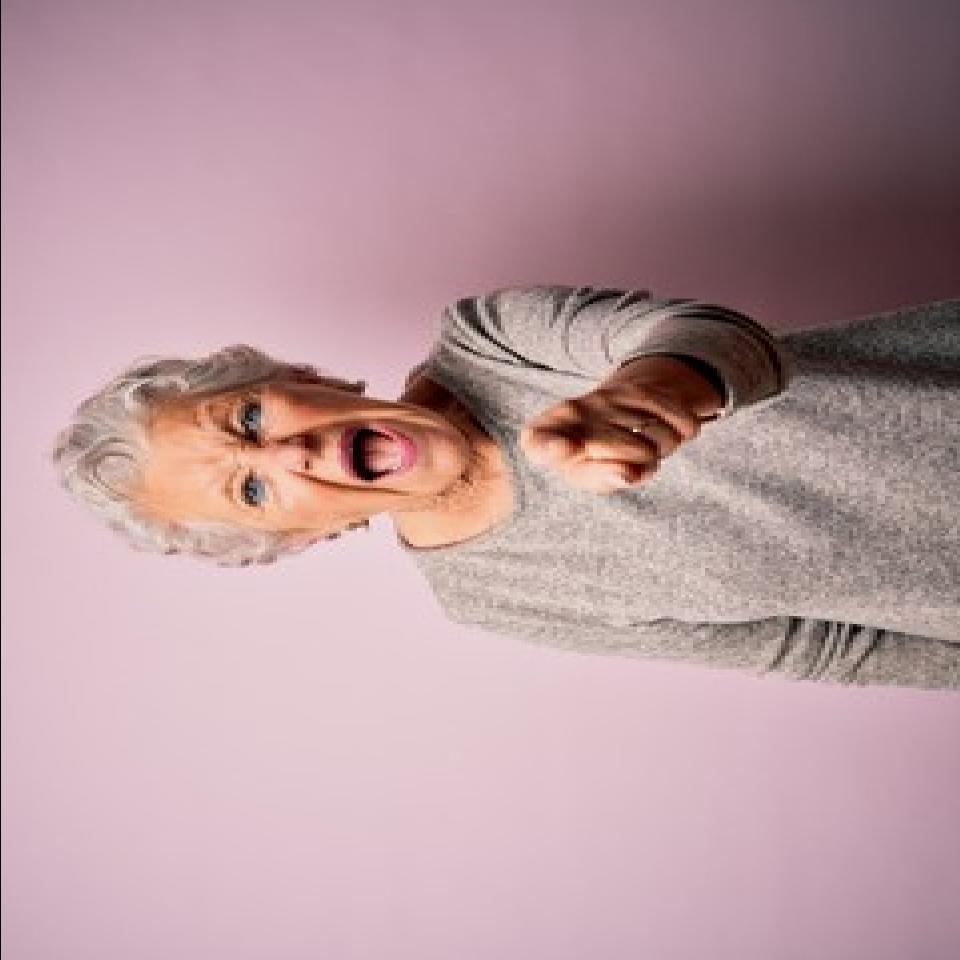Anger: (141, 388, 467, 530)
